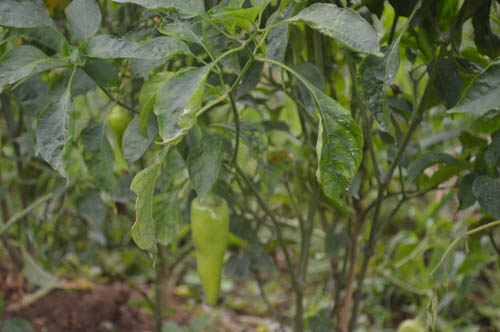ChiliPepper: (187, 204, 231, 309)
